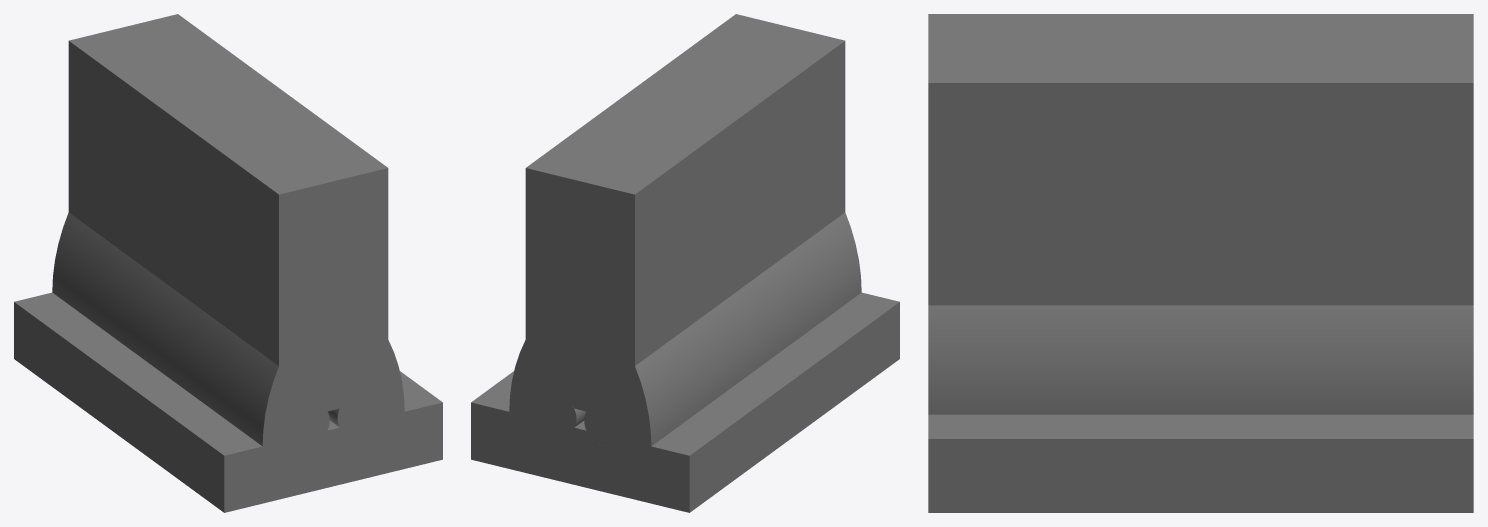
3 renders of one model, left to right at view 1: azimuth 30°, elevation 25°; view 2: azimuth 150°, elevation 25°; view 3: azimuth 270°, elevation 25°, orthographic. The views are drawn at different scales.
Visible parts, largest first — view 1: mesh_id4, mesh_id5; view 2: mesh_id4, mesh_id5; view 3: mesh_id4, mesh_id5.
Part boxes in pixels (x1,y1,x2,y2): mesh_id4: [14, 14, 442, 512]; mesh_id5: [52, 212, 404, 446]; mesh_id4: [471, 14, 899, 512]; mesh_id5: [509, 212, 861, 446]; mesh_id4: [928, 14, 1473, 512]; mesh_id5: [928, 305, 1473, 414].
Bounding box in the file's own units: 0.384 × 0.512 × 0.64.
2 materials, 2 textured.
